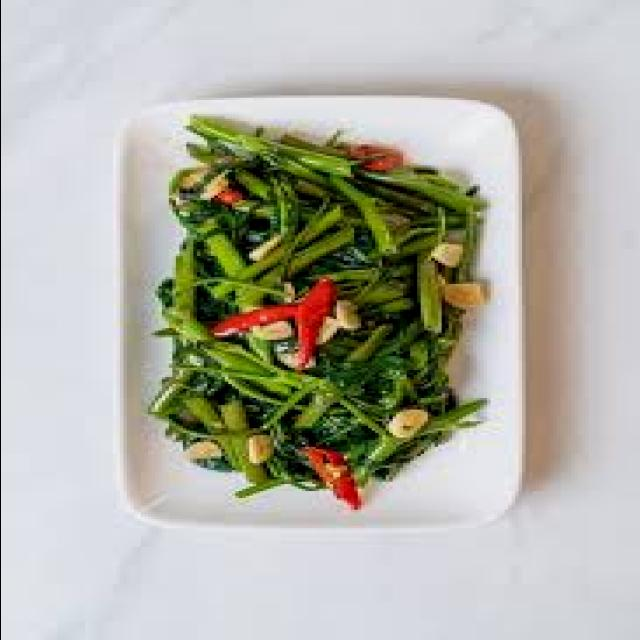tumis kangkung: (142, 106, 494, 512)
